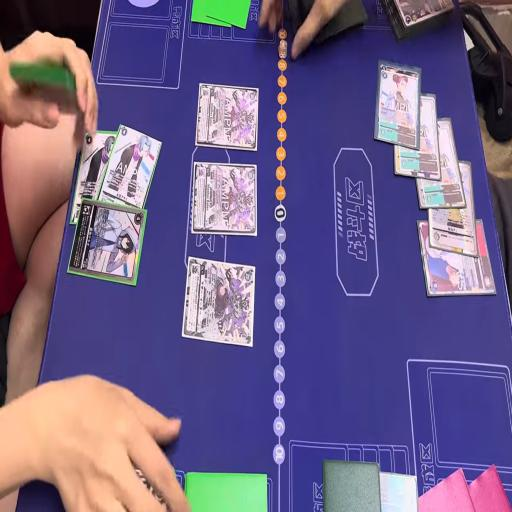card: (98, 122, 164, 238), (182, 256, 258, 352), (416, 214, 496, 300), (65, 212, 151, 282), (413, 109, 465, 217), (71, 123, 122, 230), (192, 161, 258, 243), (374, 55, 422, 157), (196, 80, 260, 154), (393, 89, 442, 179), (428, 162, 474, 255), (388, 0, 466, 31)
